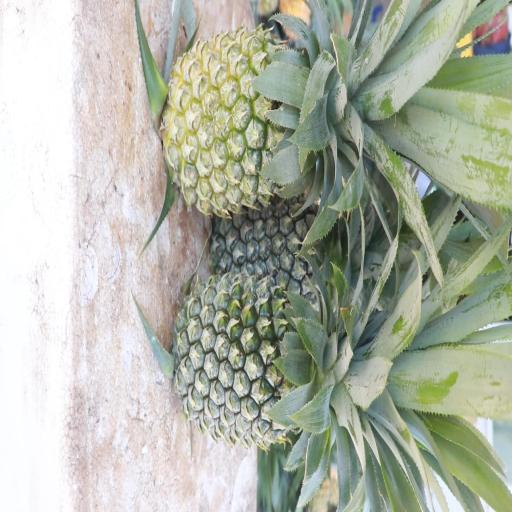Pineapple - v8 v1: (164, 26, 354, 210)
